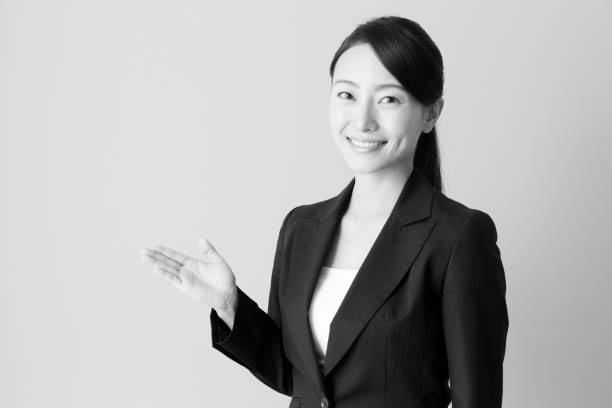pointing_gesture: (134, 235, 239, 311)
